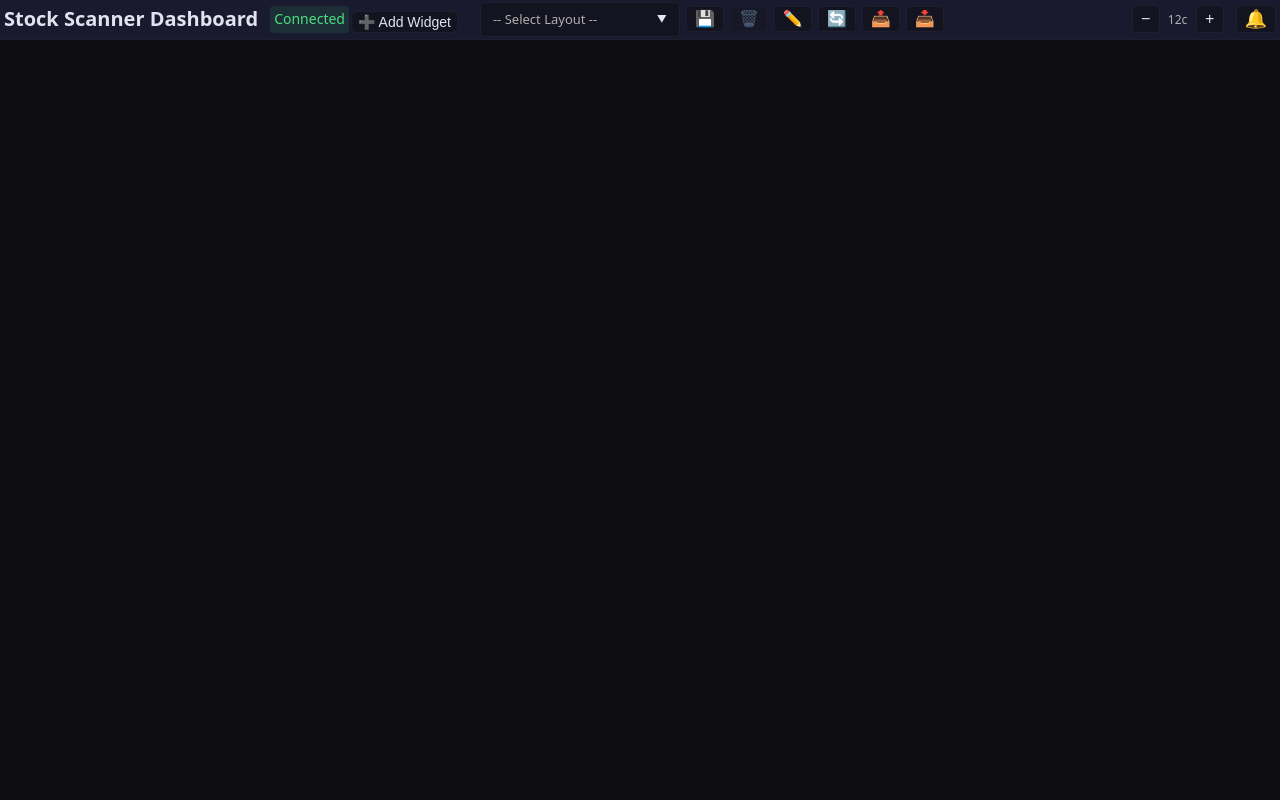
mobile toolbar isLocked state › with drawLayoutPreview: item without userLabel or type expect widget label
The image size is (1280, 800).
# Act — open dropdown and click preview button (triggers showLayoutPreview internally)
Click the element with class "select-trigger". click: {"x": 580, "y": 19}
box: [480,2,680,37]
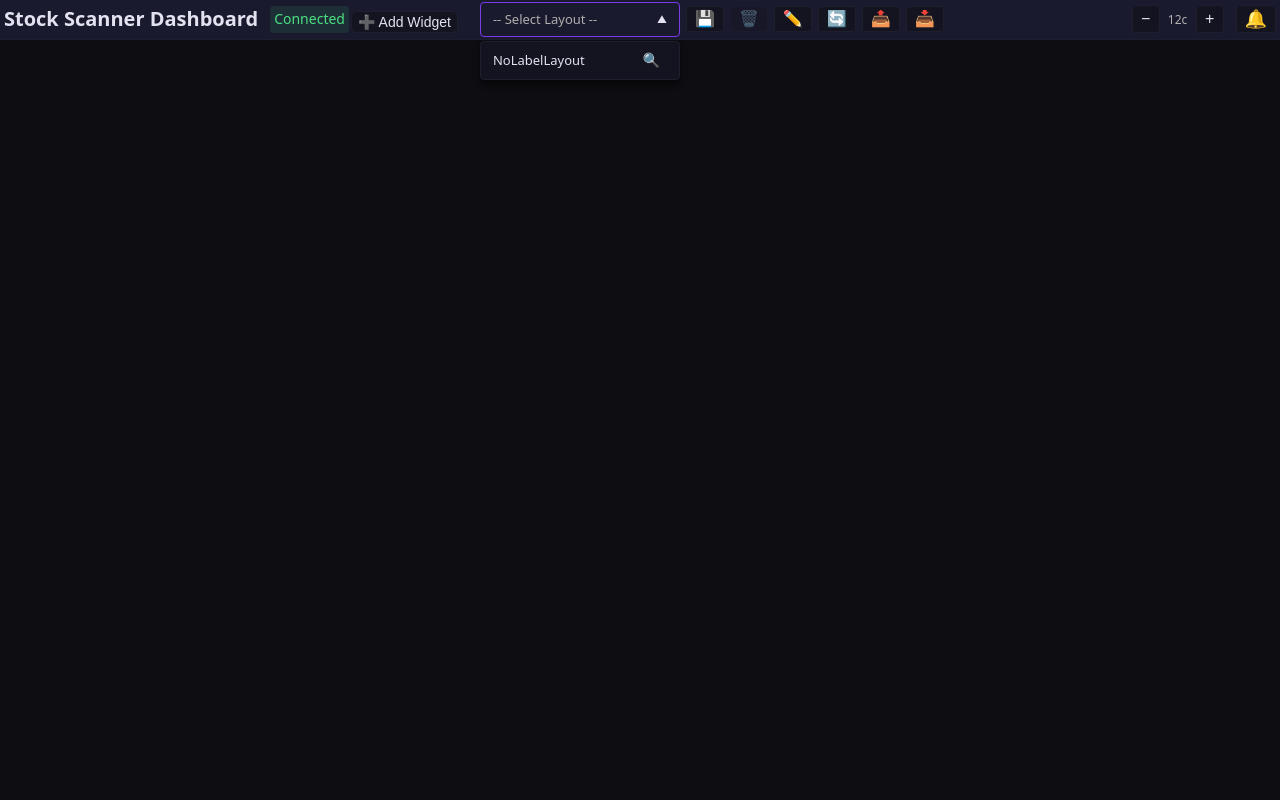
Click the button with class "option-preview-btn". click: {"x": 651, "y": 60}
box: [636,50,667,70]
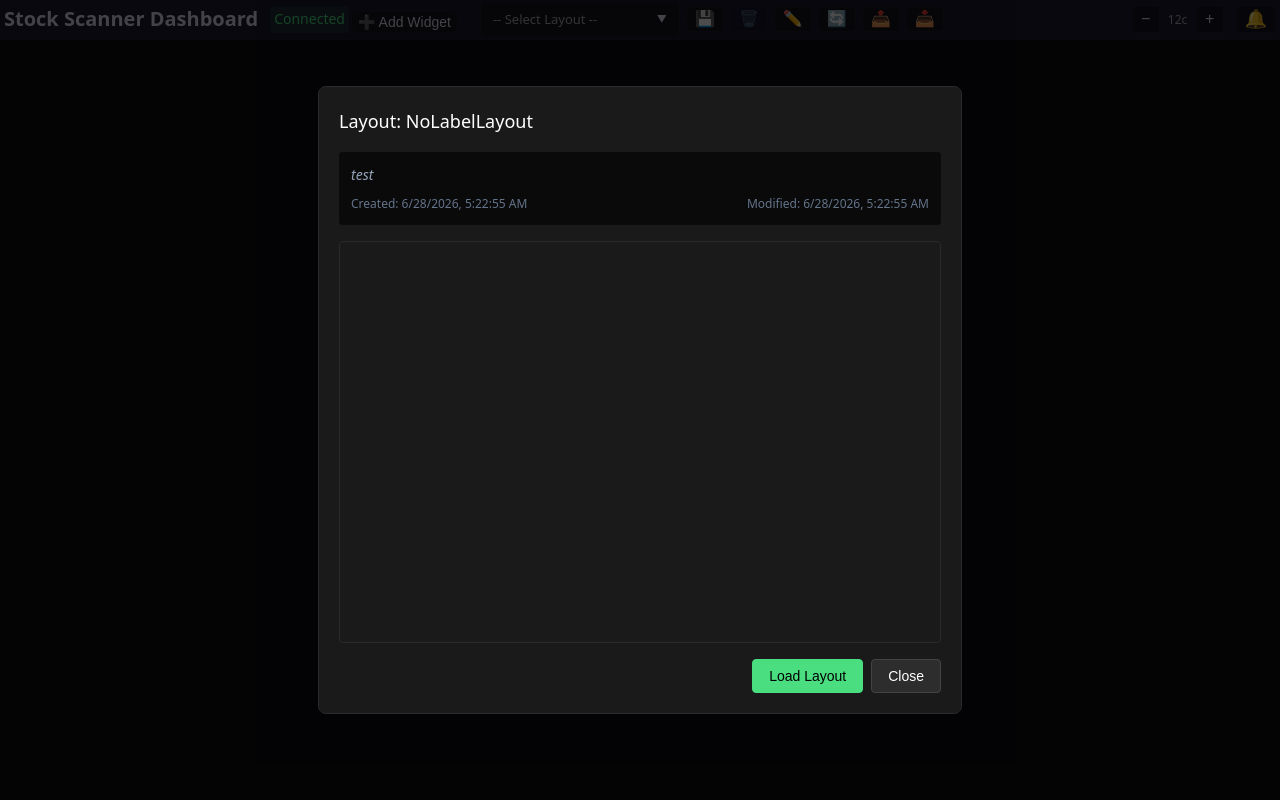
Now the element with class "modal-overlay" is shown
